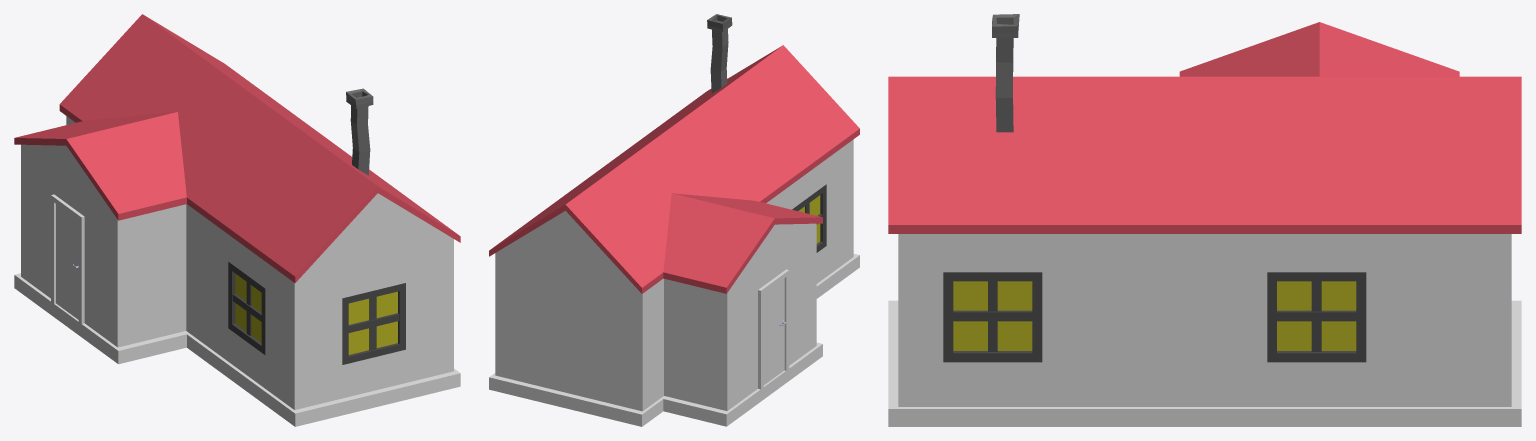
The model's file is House.fbx.
The picture shows the model from 3 angles, left to right: view 1: azimuth 30°, elevation 25°; view 2: azimuth 150°, elevation 25°; view 3: azimuth 270°, elevation 25°; orthographic projection. The views are drawn at different scales.
Visible parts, largest first — view 1: building_002, Door, Cube, DoorFrame; view 2: building_002, Door, DoorFrame, Cube; view 3: building_002, Cube.
Boxes of the visible parts, bbox=[...] form: building_002: bbox=[14, 14, 460, 426]; Door: bbox=[56, 204, 78, 319]; Cube: bbox=[346, 88, 373, 175]; DoorFrame: bbox=[51, 194, 84, 323]; building_002: bbox=[489, 45, 859, 426]; Door: bbox=[763, 278, 784, 385]; DoorFrame: bbox=[758, 269, 789, 389]; Cube: bbox=[707, 14, 732, 93]; building_002: bbox=[888, 22, 1521, 426]; Cube: bbox=[992, 14, 1019, 132].
Bounding box in the file's own units: 369 × 412 × 640.
